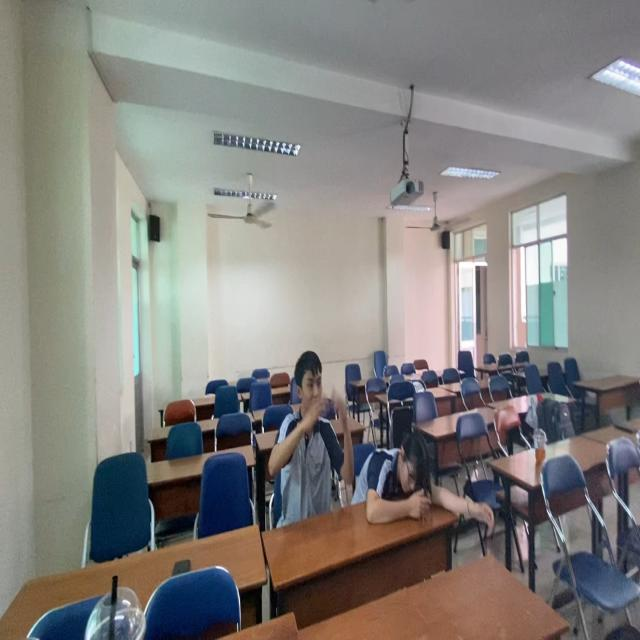sleep: (357, 423, 496, 545)
